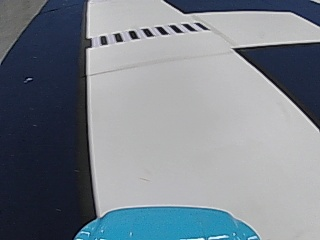CrossWalk: (90, 21, 206, 46)
